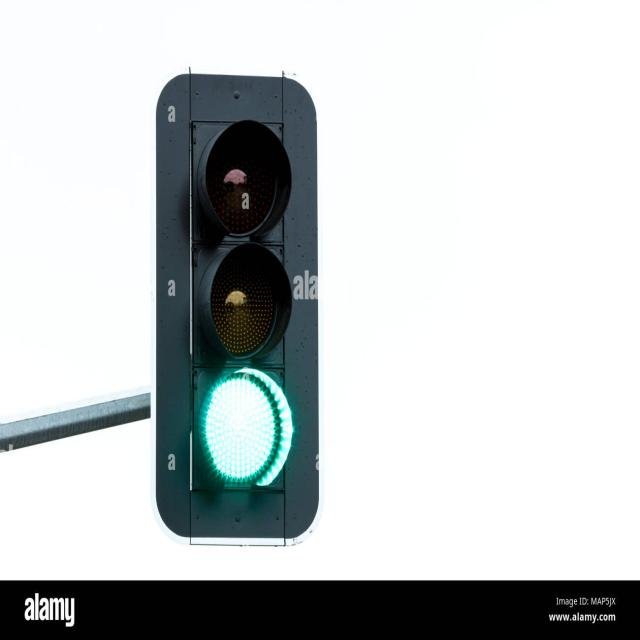green: (193, 344, 289, 491)
